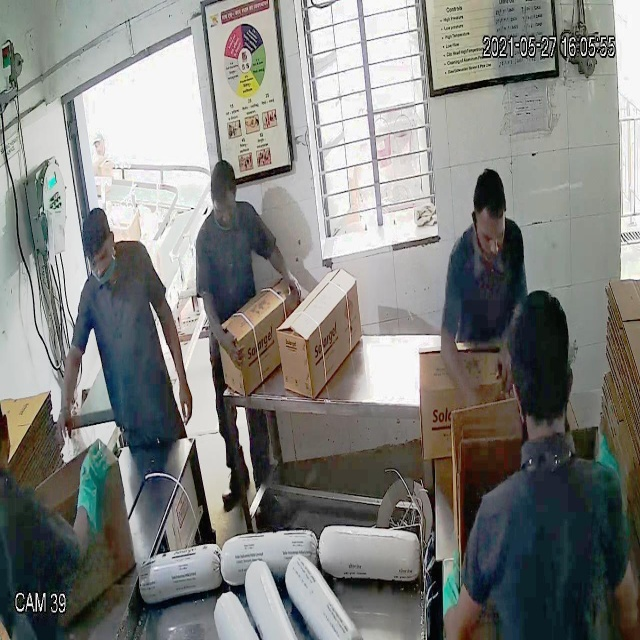Sin_gafas: (472, 211, 511, 253), (81, 242, 121, 281)
